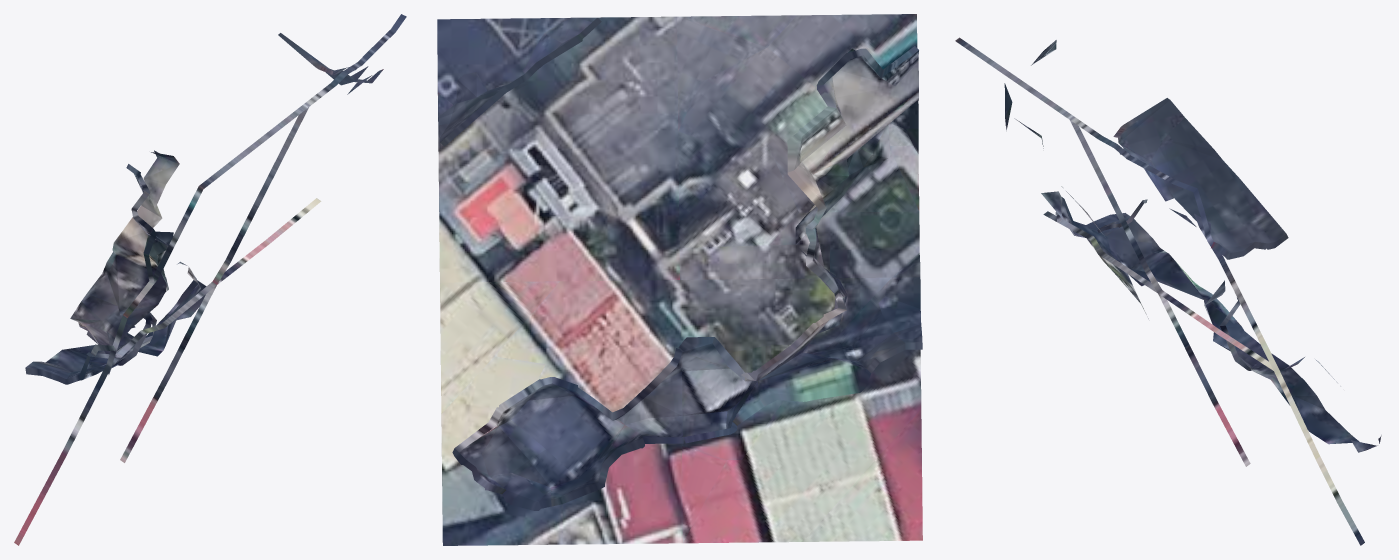
3 renders of one model, left to right at view 1: azimuth 30°, elevation 25°; view 2: azimuth 150°, elevation 25°; view 3: azimuth 270°, elevation 25°, orthographic. The views are drawn at different scales.
Size of the model in its own units: 38.03 by 37.02 by 34.04.
1 material, 1 textured.
